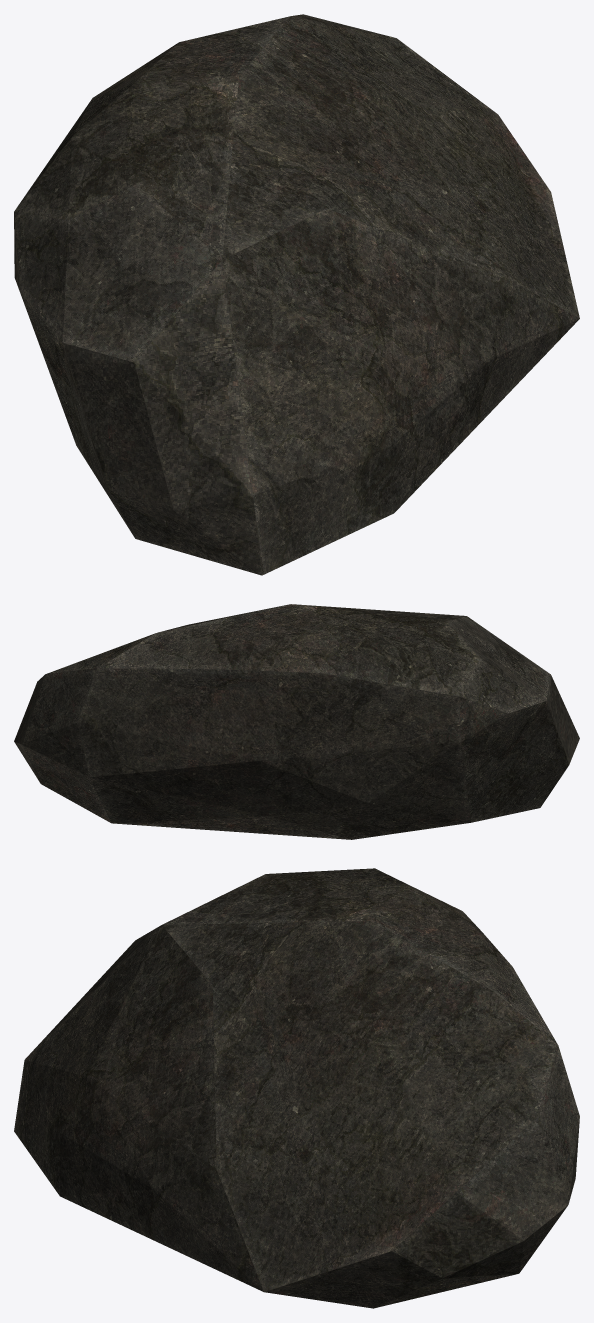
The model's file is stone_2.glb.
3 renders of one model, top to bottom at view 1: azimuth 30°, elevation 25°; view 2: azimuth 150°, elevation 25°; view 3: azimuth 270°, elevation 25°, orthographic. The views are drawn at different scales.
Visible parts, largest first — view 1: stone_2; view 2: stone_2; view 3: stone_2.
Part boxes in pixels (box(x1,y1,x2,y2)): stone_2: box(14, 14, 579, 575); stone_2: box(14, 604, 579, 839); stone_2: box(14, 868, 579, 1308).
Bounding box in the file's own units: 3.62 × 2.01 × 3.3.
Materials: 1 (1 with a texture image).
